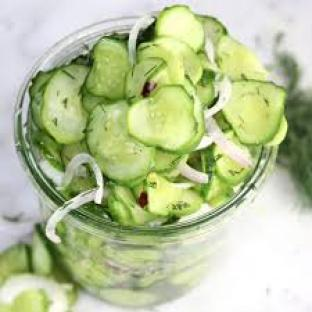Cucumber: (88, 102, 155, 184), (128, 86, 198, 153), (224, 81, 285, 144), (42, 66, 88, 144), (86, 38, 130, 99), (146, 174, 202, 217), (154, 37, 202, 84), (217, 37, 267, 80), (156, 6, 203, 51), (138, 42, 184, 84), (113, 186, 159, 226), (127, 59, 166, 102), (184, 78, 205, 151), (214, 146, 253, 185), (30, 71, 52, 128), (32, 131, 63, 170), (0, 245, 30, 284), (31, 227, 54, 275), (63, 167, 95, 198), (206, 175, 234, 206), (199, 16, 227, 47), (13, 290, 49, 311), (82, 88, 110, 113), (196, 70, 214, 108), (109, 196, 131, 226), (154, 149, 184, 171), (62, 141, 88, 166), (267, 117, 288, 146), (150, 66, 170, 87), (197, 52, 216, 72), (214, 111, 231, 131), (0, 303, 13, 311)
